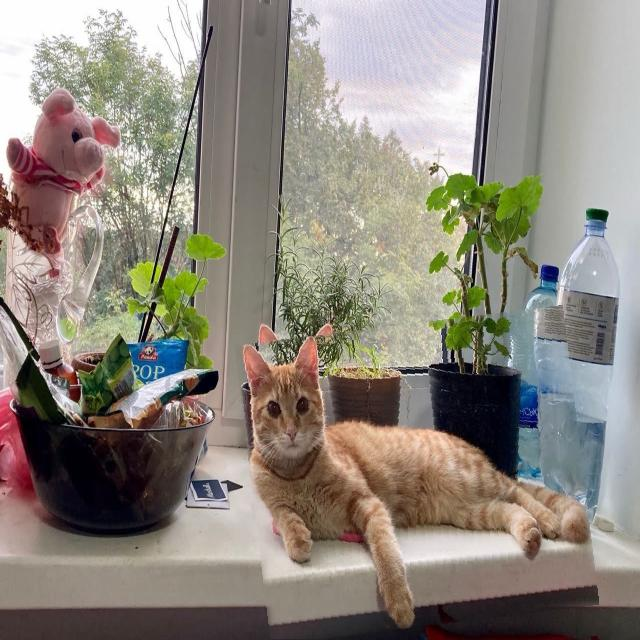red_cat: (243, 336, 591, 629)
